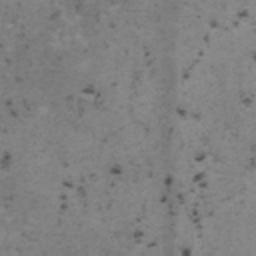Oxide scale of temperature system: (132, 152, 207, 256), (184, 9, 248, 81), (0, 99, 19, 173), (59, 179, 87, 211), (81, 83, 97, 95), (174, 106, 187, 118), (108, 164, 123, 174), (242, 96, 253, 104)
